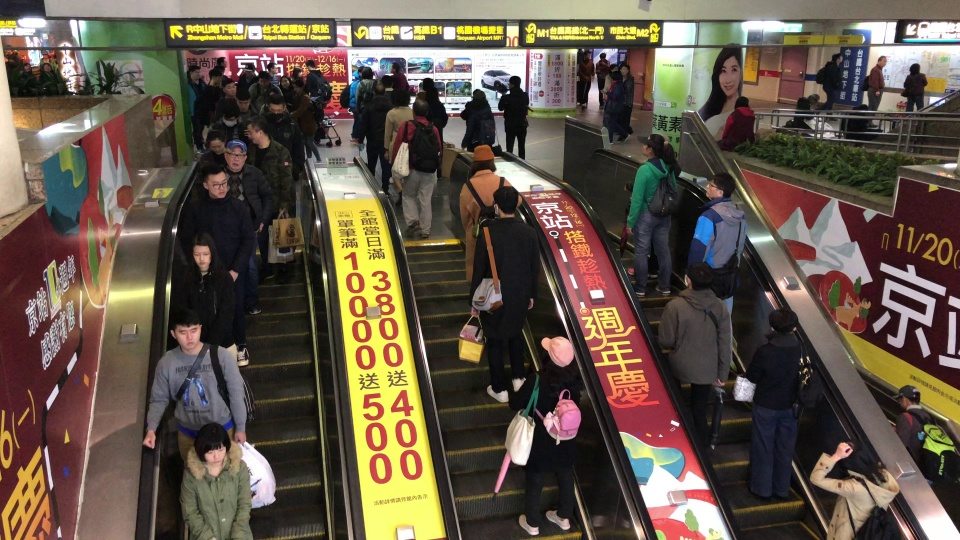person_head: (193, 422, 232, 465), (539, 336, 575, 377), (836, 437, 873, 476), (172, 308, 200, 350), (200, 164, 227, 201), (683, 260, 714, 291), (704, 172, 735, 200), (190, 232, 214, 268), (469, 144, 496, 176), (636, 132, 666, 160), (492, 186, 519, 217), (768, 308, 798, 334), (223, 139, 247, 170), (893, 384, 920, 411), (246, 115, 268, 145), (206, 128, 227, 155), (266, 94, 285, 121), (415, 77, 436, 100), (222, 102, 239, 128), (389, 88, 411, 107), (235, 89, 250, 112), (410, 99, 428, 117), (471, 88, 487, 107), (221, 78, 236, 97), (424, 87, 439, 104), (208, 68, 222, 85), (733, 95, 749, 109), (372, 83, 386, 98), (420, 78, 435, 92), (507, 75, 521, 90), (258, 70, 270, 87), (291, 79, 306, 92), (291, 65, 304, 79), (243, 63, 255, 78), (266, 62, 279, 75), (360, 66, 373, 79), (908, 62, 921, 75), (189, 65, 201, 79), (279, 75, 291, 89), (381, 75, 393, 88), (373, 68, 385, 80), (388, 61, 400, 73), (807, 93, 820, 104), (876, 55, 887, 68), (216, 55, 227, 67), (305, 59, 316, 71), (610, 69, 621, 81), (620, 64, 631, 76), (831, 52, 843, 63), (607, 63, 618, 74), (22, 62, 32, 73), (42, 62, 52, 73), (4, 44, 13, 55), (582, 50, 591, 60), (357, 65, 364, 77), (599, 52, 607, 61), (41, 50, 49, 58)
person_vbox: (141, 309, 247, 464), (466, 186, 540, 404), (180, 164, 257, 367), (507, 335, 582, 536), (656, 260, 733, 450), (745, 308, 809, 502), (686, 172, 747, 367), (457, 144, 523, 285), (177, 422, 255, 540), (222, 139, 272, 316), (173, 232, 237, 367), (625, 132, 677, 298), (808, 437, 888, 540), (245, 115, 294, 281), (258, 93, 305, 251), (390, 99, 442, 238), (891, 383, 938, 495), (382, 88, 413, 207), (362, 82, 393, 197), (497, 74, 530, 160), (289, 79, 323, 162), (420, 86, 448, 179), (715, 95, 756, 153), (599, 69, 630, 144), (459, 88, 495, 152), (186, 65, 208, 155), (814, 53, 843, 121), (840, 103, 883, 145), (303, 59, 327, 128), (354, 66, 374, 145), (866, 54, 887, 129), (900, 62, 928, 118), (207, 102, 246, 142), (248, 71, 283, 114), (347, 64, 365, 146), (197, 127, 230, 171), (211, 77, 237, 123), (203, 68, 223, 127), (577, 49, 595, 110), (619, 64, 634, 134), (792, 93, 821, 129), (595, 51, 610, 109), (602, 62, 619, 108), (234, 89, 257, 122), (237, 62, 258, 91), (388, 62, 409, 90), (37, 62, 59, 85), (4, 44, 23, 70), (381, 75, 395, 108), (39, 49, 57, 73), (20, 63, 37, 87), (265, 62, 280, 88)
